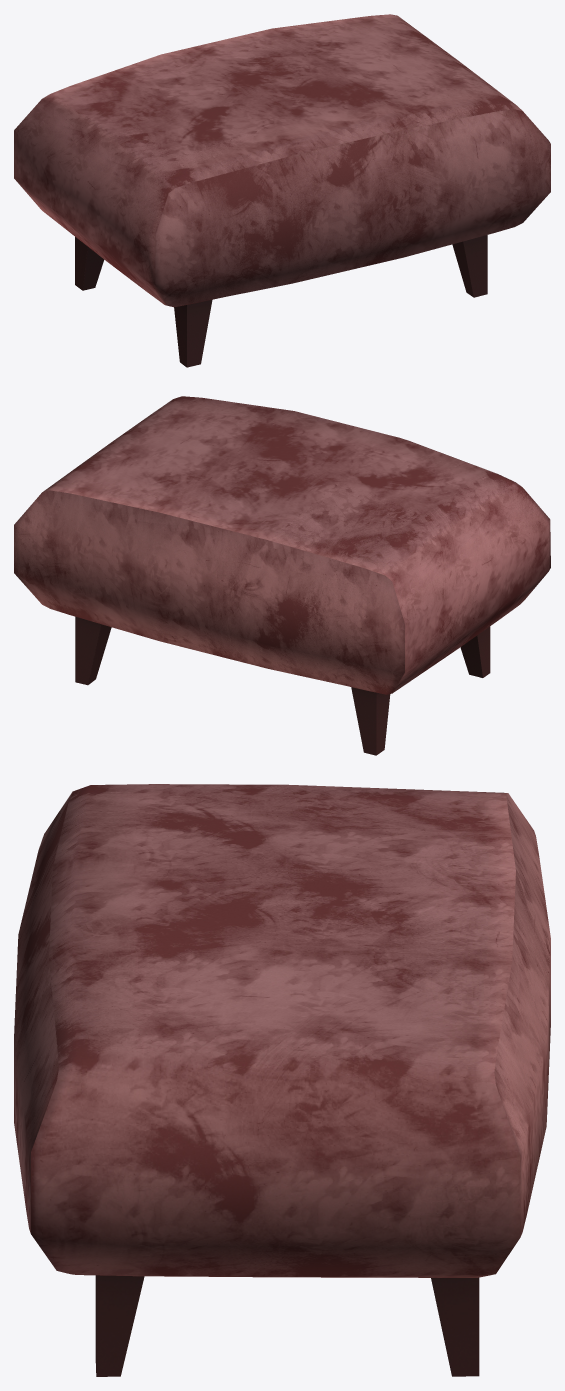
File: Corinna Ottoman.FBX
3 renders of one model, top to bottom at view 1: azimuth 30°, elevation 25°; view 2: azimuth 150°, elevation 25°; view 3: azimuth 270°, elevation 25°, orthographic. The views are drawn at different scales.
Parts seen in each view (by area): view 1: Corinna Ottoman; view 2: Corinna Ottoman; view 3: Corinna Ottoman.
Boxes of the visible parts, box(x1,y1,x2,y2) form: Corinna Ottoman: box(14, 14, 550, 367); Corinna Ottoman: box(14, 396, 550, 755); Corinna Ottoman: box(14, 784, 550, 1376).
Size of the model in its own units: 1.25 by 0.624 by 0.8625.
1 material, 1 textured.
